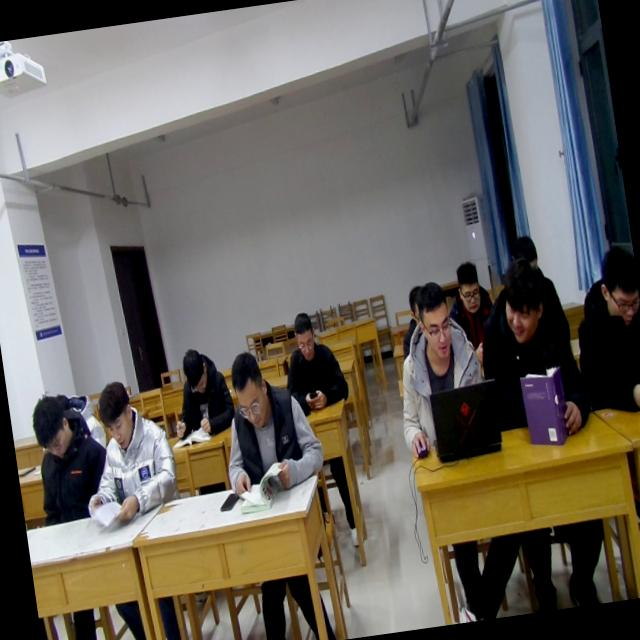down: (590, 235, 640, 328), (225, 346, 277, 434), (410, 276, 457, 364), (91, 376, 140, 458), (27, 390, 72, 464), (448, 253, 486, 320), (174, 342, 212, 398), (290, 307, 320, 361)
sit: (466, 243, 598, 446), (382, 273, 495, 462), (208, 342, 329, 504), (72, 374, 182, 534), (18, 384, 112, 528), (566, 233, 640, 409), (272, 302, 350, 413), (165, 338, 238, 438), (444, 251, 506, 355)
